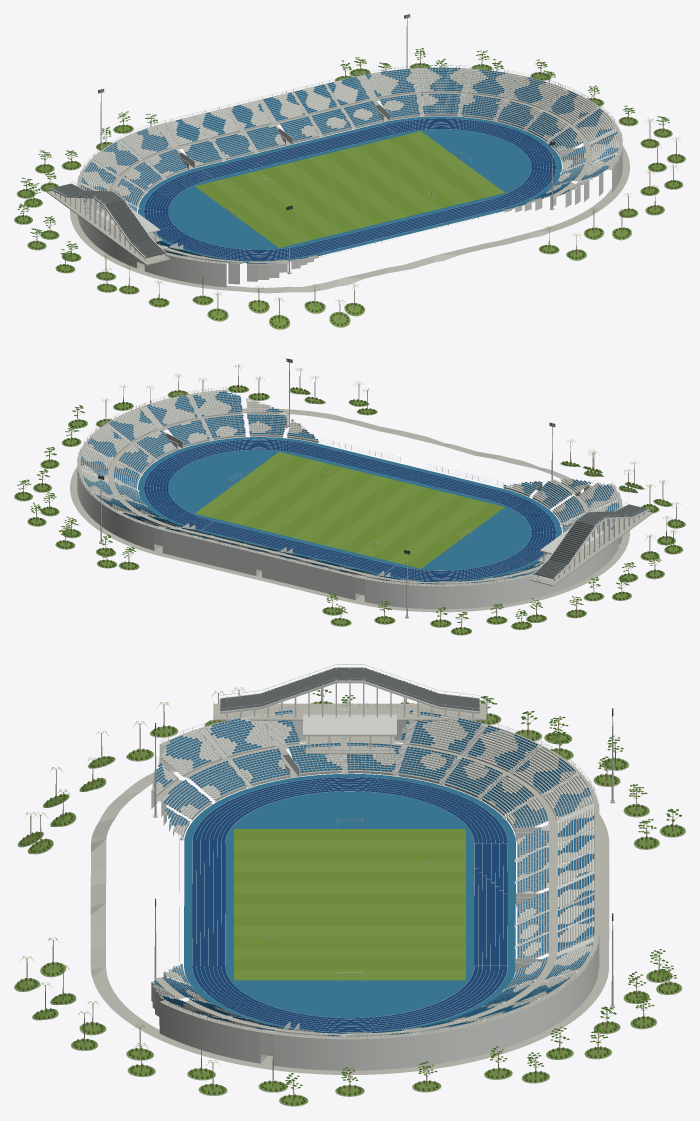
The model's file is stadium-lod2.glb.
3 renders of one model, top to bottom at view 1: azimuth 30°, elevation 25°; view 2: azimuth 150°, elevation 25°; view 3: azimuth 270°, elevation 25°, orthographic. The views are drawn at different scales.
Parts seen in each view (by area): view 1: two tier seating terraces | concrete.002, individual blue bucket seats | blue seats.002, blue track runoff apron | runoff.002, eight lane blue running track | track.002, natural turf mowing strips | grass.002, natural turf mowing strips | grass stripe.002, individual white bucket seats | white seats.002, white stand cheek walls and copings | ivory metal.002, connected planted lawns | lawn.002, circulation concourses | pale paving.002, terrain conforming perimeter paving | pale paving.002, track lane and staggered start markings | white line.002 (+9 smaller); view 2: white stand cheek walls and copings | ivory metal.002, blue track runoff apron | runoff.002, eight lane blue running track | track.002, two tier seating terraces | concrete.002, natural turf mowing strips | grass.002, natural turf mowing strips | grass stripe.002, individual blue bucket seats | blue seats.002, individual white bucket seats | white seats.002, circulation concourses | pale paving.002, terrain conforming perimeter paving | pale paving.002, connected planted lawns | lawn.002, track lane and staggered start markings | white line.002 (+9 smaller); view 3: two tier seating terraces | concrete.002, blue track runoff apron | runoff.002, eight lane blue running track | track.002, white stand cheek walls and copings | ivory metal.002, individual blue bucket seats | blue seats.002, natural turf mowing strips | grass stripe.002, natural turf mowing strips | grass.002, circulation concourses | pale paving.002, individual white bucket seats | white seats.002, terrain conforming perimeter paving | pale paving.002, connected planted lawns | lawn.002, track lane and staggered start markings | white line.002 (+9 smaller).
Boxes of the visible parts, x1,y1,x2,y2 form: two tier seating terraces | concrete.002: (81,69,619,264); individual blue bucket seats | blue seats.002: (81,67,618,263); blue track runoff apron | runoff.002: (138,116,561,262); eight lane blue running track | track.002: (144,118,555,260); natural turf mowing strips | grass.002: (195,135,488,247); natural turf mowing strips | grass stripe.002: (211,131,504,243); individual white bucket seats | white seats.002: (82,68,618,263); white stand cheek walls and copings | ivory metal.002: (77,70,622,287); connected planted lawns | lawn.002: (14,63,685,329); circulation concourses | pale paving.002: (47,67,622,268); terrain conforming perimeter paving | pale paving.002: (70,119,629,293); track lane and staggered start markings | white line.002: (144,118,555,260); white stand cheek walls and copings | ivory metal.002: (77,395,622,609); blue track runoff apron | runoff.002: (138,437,561,581); eight lane blue running track | track.002: (144,439,555,580); two tier seating terraces | concrete.002: (80,391,619,584); natural turf mowing strips | grass.002: (211,456,504,568); natural turf mowing strips | grass stripe.002: (195,452,488,564); individual blue bucket seats | blue seats.002: (81,391,618,584); individual white bucket seats | white seats.002: (81,390,618,584); circulation concourses | pale paving.002: (77,389,652,600); terrain conforming perimeter paving | pale paving.002: (70,408,629,612); connected planted lawns | lawn.002: (14,386,685,634); track lane and staggered start markings | white line.002: (144,439,555,581); two tier seating terraces | concrete.002: (151,712,594,1037); blue track runoff apron | runoff.002: (184,773,515,1033); eight lane blue running track | track.002: (192,777,507,1031); white stand cheek walls and copings | ivory metal.002: (151,708,599,1070); individual blue bucket seats | blue seats.002: (154,710,594,1036); natural turf mowing strips | grass stripe.002: (234,839,465,980); natural turf mowing strips | grass.002: (234,829,465,969); circulation concourses | pale paving.002: (154,703,599,1062); individual white bucket seats | white seats.002: (153,714,594,1036); terrain conforming perimeter paving | pale paving.002: (90,740,609,1074); connected planted lawns | lawn.002: (14,702,685,1105); track lane and staggered start markings | white line.002: (192,777,507,1032).
Size of the model in its own units: 280 by 38.03 by 197.
